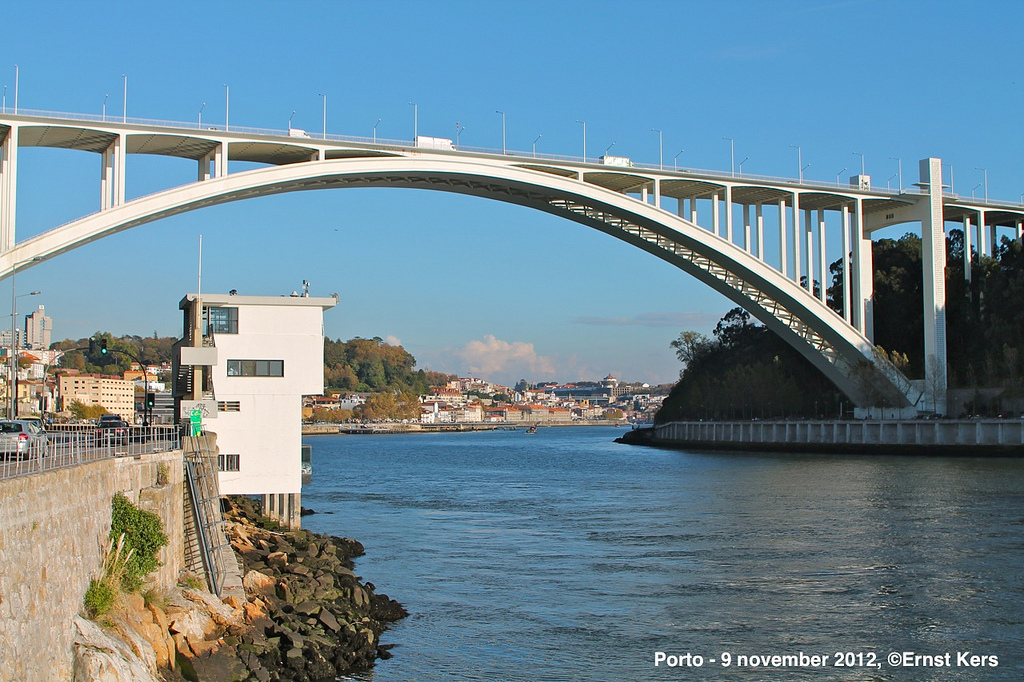arrabida: (0, 106, 1023, 420)
